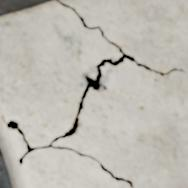brick: (54, 0, 187, 187), (0, 1, 128, 187)
crack: (1, 0, 185, 187), (0, 182, 3, 187)
